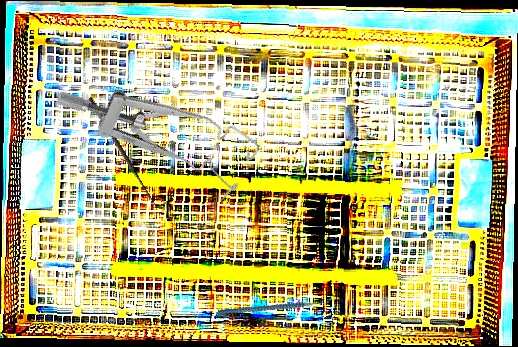Chopper: (216, 268, 335, 341)
Hook Surgical: (85, 91, 169, 214)
Speculum: (52, 33, 266, 218)
